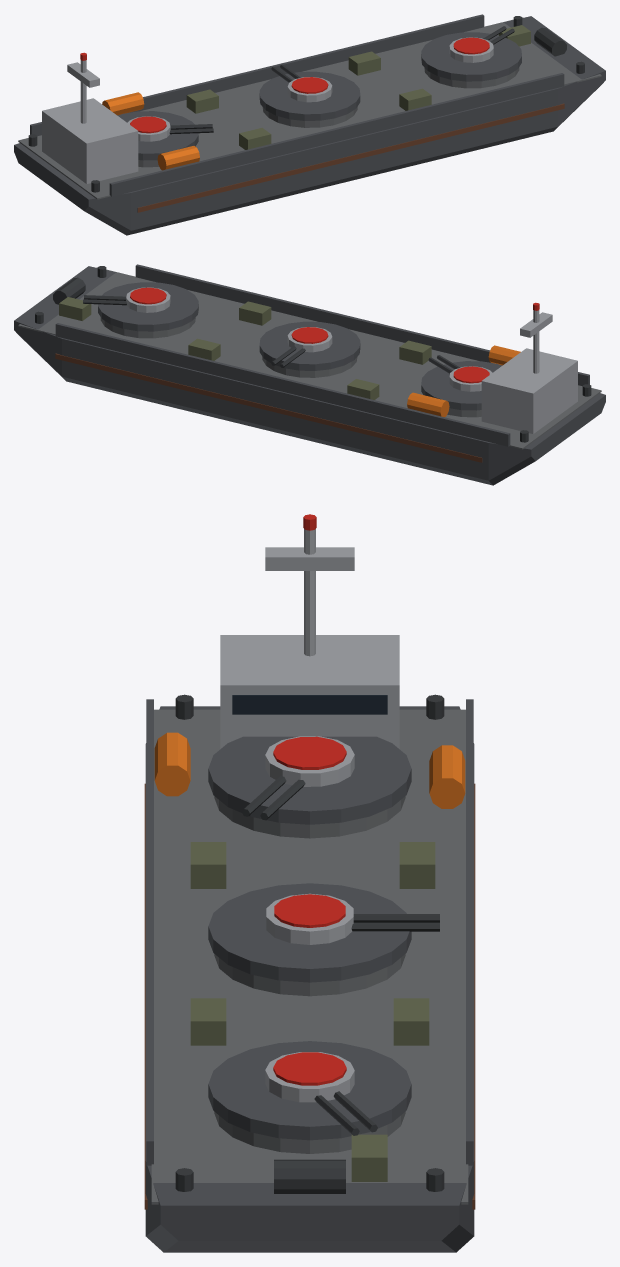
The model's file is fh_battle_e_ship_battery.glb.
The picture shows the model from 3 angles, top to bottom: view 1: azimuth 30°, elevation 25°; view 2: azimuth 150°, elevation 25°; view 3: azimuth 270°, elevation 25°; orthographic projection. The views are drawn at different scales.
Parts seen in each view (by area): view 1: body; view 2: body; view 3: body.
Part boxes in pixels (bbox=[...]): body: bbox=[14, 14, 605, 235]; body: bbox=[14, 264, 605, 485]; body: bbox=[144, 514, 475, 1252].
Size of the model in its own units: 1 by 0.2887 by 0.277.
